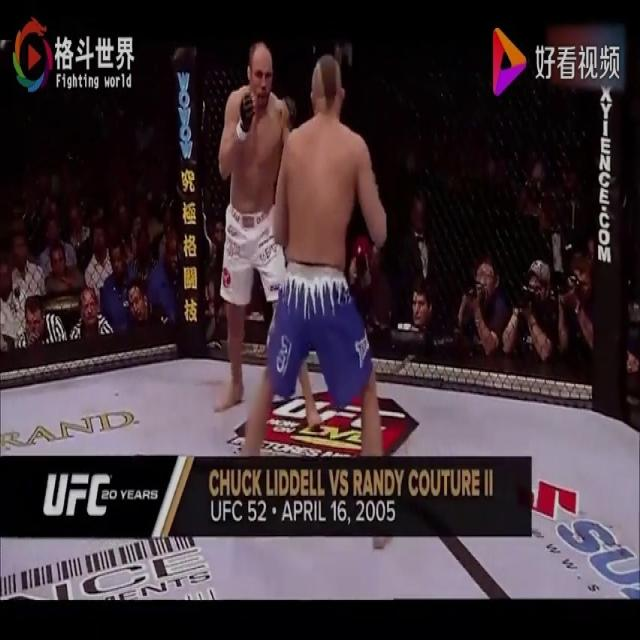fight: (210, 36, 406, 457)
